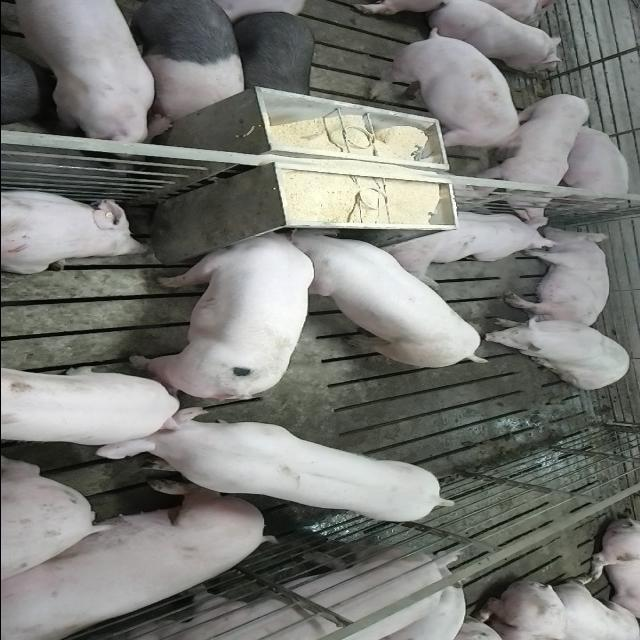Feeding: (126, 220, 314, 397), (285, 230, 497, 372)
Lateral_lying: (502, 225, 612, 330)
Sitting: (480, 316, 633, 390)
Standing: (0, 540, 470, 640), (112, 411, 452, 524), (0, 0, 159, 145), (363, 29, 523, 150), (0, 368, 177, 464), (468, 92, 590, 223), (124, 2, 248, 123)
Sternal_lying: (0, 187, 151, 275), (375, 208, 555, 281), (420, 2, 566, 71)
